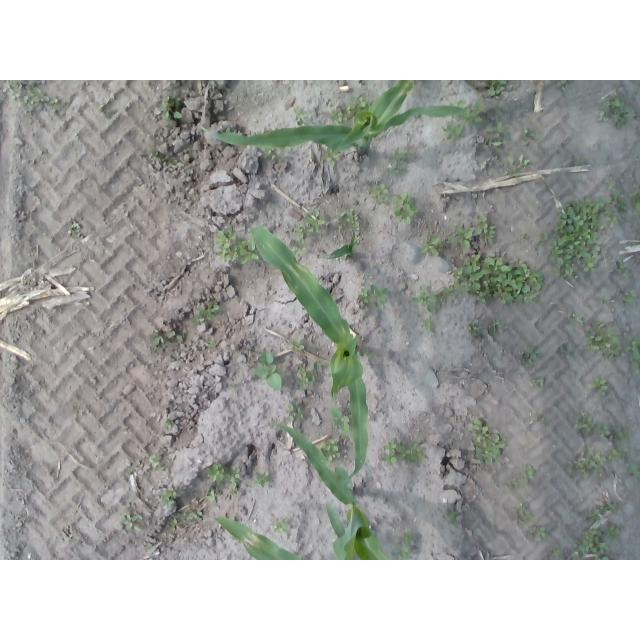Maize: (250, 225, 368, 483), (200, 81, 468, 156), (271, 421, 388, 559), (215, 517, 302, 560), (327, 230, 357, 258)
Weeds: (550, 183, 626, 287), (442, 254, 544, 306), (566, 444, 630, 476), (571, 411, 633, 442), (470, 415, 507, 465), (3, 80, 60, 109), (289, 209, 324, 256), (215, 227, 258, 264), (597, 91, 637, 130), (251, 349, 284, 391), (449, 218, 495, 248), (587, 322, 624, 358), (379, 439, 428, 466), (579, 529, 612, 560), (329, 95, 367, 121), (189, 300, 221, 329), (295, 361, 325, 390), (393, 192, 420, 224), (411, 283, 437, 313), (208, 461, 243, 483), (357, 284, 389, 308), (458, 99, 487, 124), (331, 405, 353, 435), (586, 502, 618, 521), (158, 96, 182, 120), (120, 508, 143, 533), (388, 146, 408, 174), (419, 233, 442, 257), (271, 515, 293, 540), (625, 340, 640, 374), (284, 404, 307, 425), (321, 436, 341, 460), (587, 376, 609, 397), (487, 122, 506, 146), (508, 154, 532, 173), (151, 147, 178, 163), (442, 121, 463, 141), (252, 469, 272, 490), (337, 211, 359, 229), (511, 501, 533, 519), (159, 488, 178, 508), (370, 184, 388, 205), (150, 333, 175, 348), (523, 345, 541, 365), (488, 80, 509, 97), (285, 337, 307, 352), (68, 219, 84, 239), (522, 461, 536, 483), (565, 313, 588, 326), (322, 150, 340, 166), (162, 517, 178, 535), (467, 322, 485, 338), (97, 103, 116, 118), (609, 524, 624, 542), (293, 106, 307, 124), (176, 511, 204, 520), (522, 128, 538, 143), (624, 290, 639, 306), (532, 527, 548, 542), (392, 548, 410, 561), (447, 509, 460, 527), (398, 532, 414, 546), (627, 462, 640, 479), (630, 189, 640, 211), (149, 455, 164, 469), (207, 490, 222, 503), (263, 147, 276, 161), (358, 347, 374, 358), (600, 295, 617, 305), (228, 483, 241, 496), (492, 316, 505, 328), (508, 476, 520, 488), (421, 317, 431, 331), (532, 377, 544, 388), (538, 234, 548, 246), (207, 337, 217, 348), (165, 418, 174, 430), (559, 80, 570, 89), (177, 334, 187, 343), (551, 548, 561, 557), (520, 232, 526, 240), (539, 416, 545, 421)
